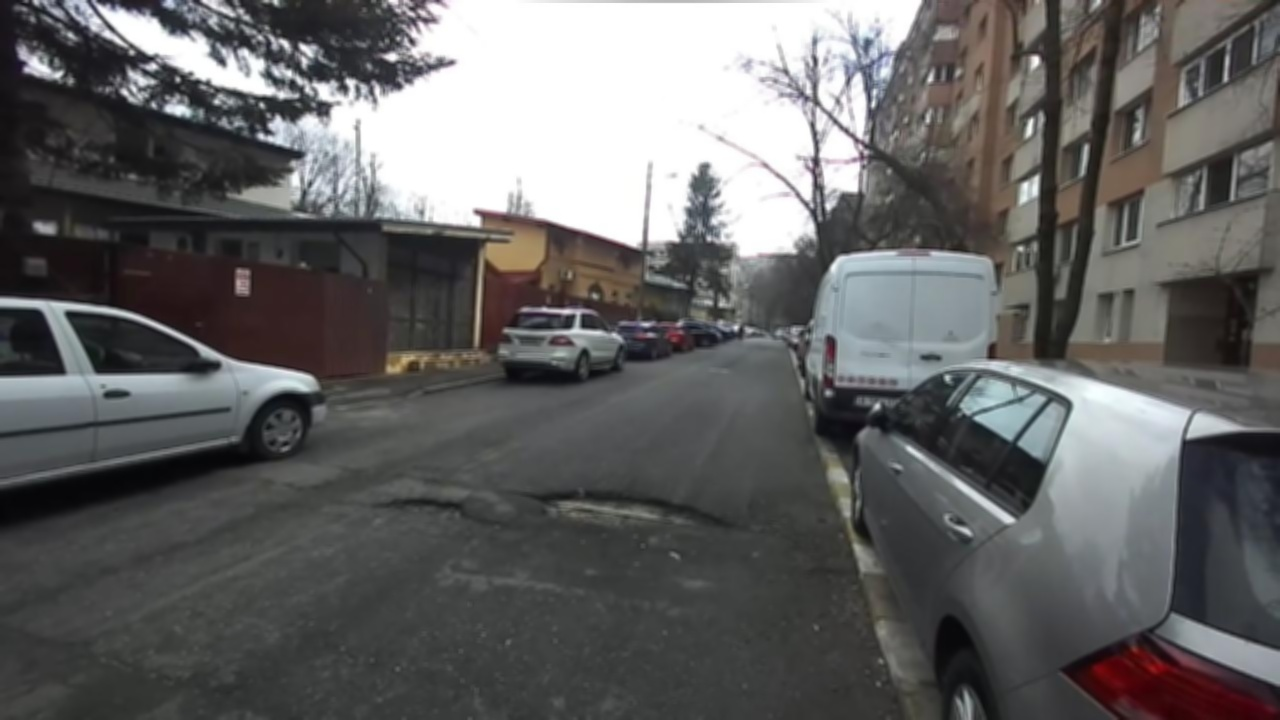pothole: (511, 484, 747, 538), (372, 494, 504, 528)
